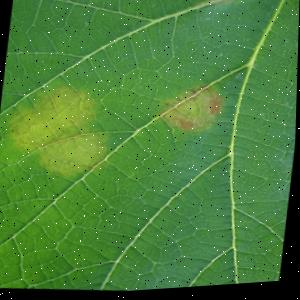Folha: (0, 0, 300, 300)
Fungo: (2, 75, 119, 187), (159, 82, 228, 140), (200, 0, 269, 11), (171, 116, 198, 132)
